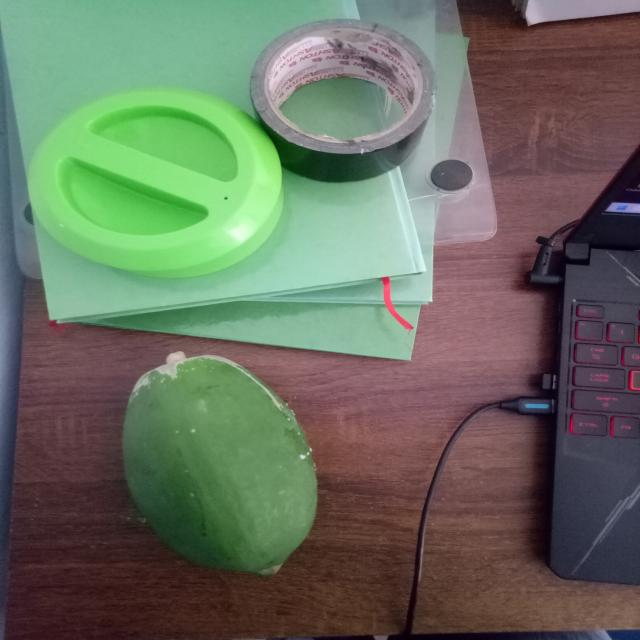Pepaya unrippen: (103, 341, 328, 591)
